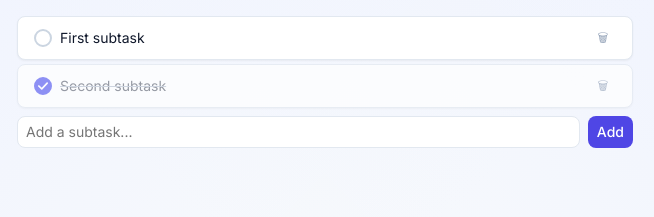
Scenario: SubtaskList › adds a new subtask
Expected: the text "First subtask" is shown, [60,27,145,49]
Type "New subtask" into the field with placeholder "Add a subtask..." at point(298, 132), box [17,116,580,148]
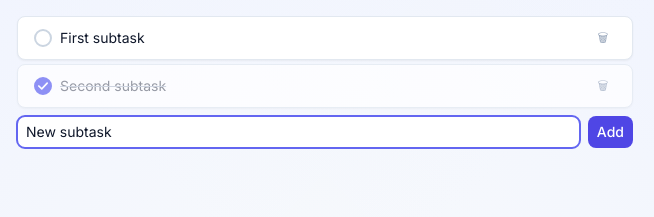
Click the button "Add" at point(610, 132), box [588,116,633,148]
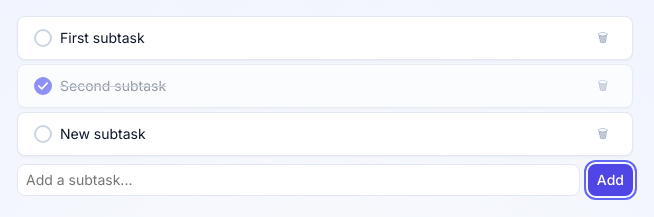
Result: the text "New subtask" is shown at [60,123,146,145]
